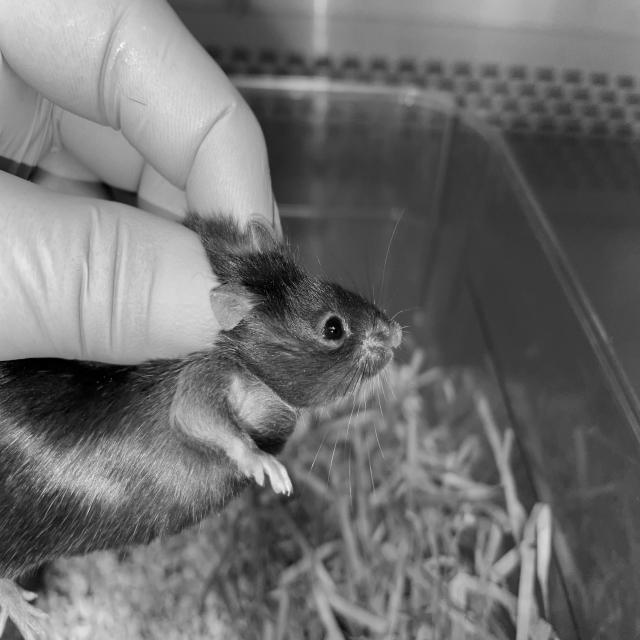Face: (208, 212, 407, 429)
